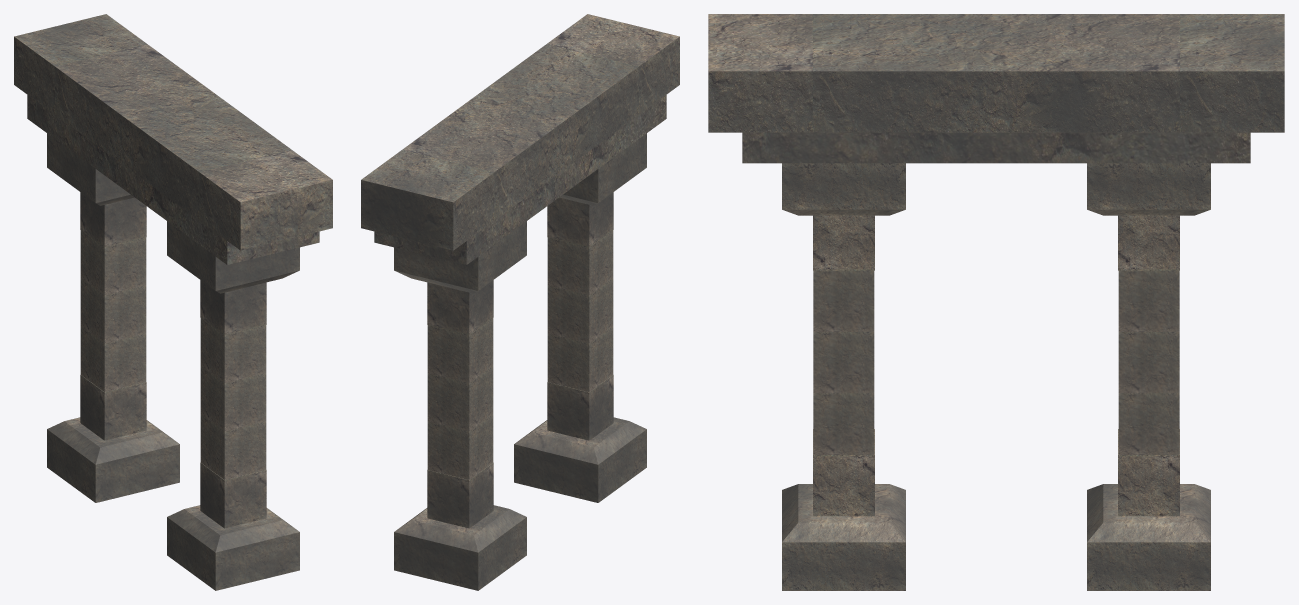
The model's file is DoorFrame.FBX.
3 renders of one model, left to right at view 1: azimuth 30°, elevation 25°; view 2: azimuth 150°, elevation 25°; view 3: azimuth 270°, elevation 25°, orthographic. The views are drawn at different scales.
Parts seen in each view (by area): view 1: Box012, Box006, Box001, Box010, Box011, Box005, Box002, Box008, Box007, Box003, Box004, Box009; view 2: Box012, Box001, Box006, Box005, Box011, Box010, Box003, Box007, Box002, Box008, Box009, Box004; view 3: Box012, Box011, Box001, Box006, Box005, Box010, Box002, Box007, Box003, Box004, Box008, Box009.
Boxes of the visible parts, box(x1,y1,x2,y2) form: Box012: box(14, 14, 332, 250); Box006: box(167, 462, 299, 590); Box001: box(47, 374, 179, 502); Box010: box(167, 221, 299, 335); Box011: box(27, 95, 319, 264); Box005: box(47, 133, 146, 247); Box002: box(80, 326, 146, 391); Box008: box(200, 366, 266, 431); Box007: box(200, 414, 266, 479); Box003: box(80, 278, 146, 343); Box004: box(80, 230, 146, 295); Box009: box(200, 318, 266, 383); Box012: box(361, 14, 679, 250); Box001: box(394, 462, 526, 590); Box006: box(514, 374, 646, 502); Box005: box(394, 221, 526, 335); Box011: box(374, 95, 666, 264); Box010: box(547, 133, 646, 247); Box003: box(427, 366, 493, 431); Box007: box(547, 326, 613, 391); Box002: box(427, 414, 493, 479); Box008: box(547, 278, 613, 343); Box009: box(547, 230, 613, 295); Box004: box(427, 318, 493, 383); Box012: box(708, 14, 1284, 132); Box011: box(742, 132, 1250, 163); Box001: box(1087, 429, 1210, 590); Box006: box(782, 429, 905, 590); Box005: box(1087, 163, 1210, 270); Box010: box(782, 163, 905, 270); Box002: box(1118, 393, 1179, 454); Box007: box(813, 393, 874, 454); Box003: box(1118, 332, 1179, 393); Box004: box(1118, 270, 1179, 331); Box008: box(813, 332, 874, 393); Box009: box(813, 270, 874, 331).
Size of the model in its own units: 100 by 425 by 425.
